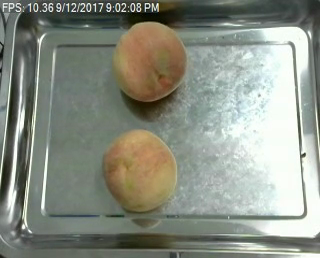Peach: (103, 127, 176, 213), (114, 20, 187, 102)
